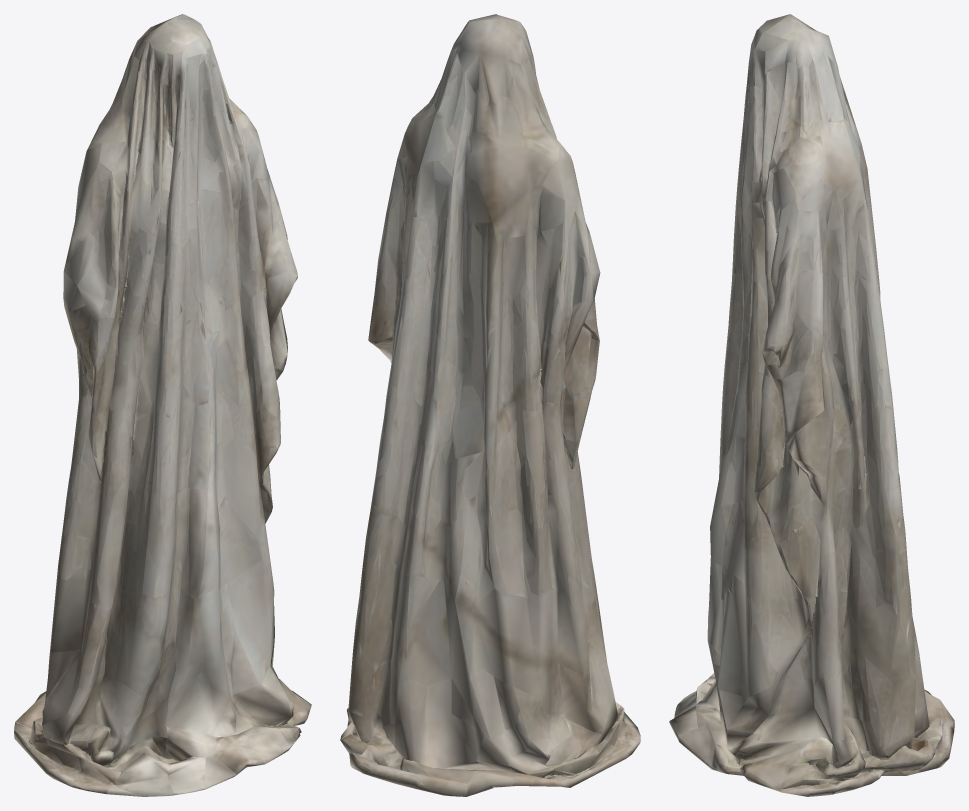
File: covered-statue.glb
3 views of the same model, side by side, from view 1: azimuth 30°, elevation 25°; view 2: azimuth 150°, elevation 25°; view 3: azimuth 270°, elevation 25° (orthographic).
Bounding box in the file's own units: 0.7261 × 1.9 × 0.6853.
Materials: 1 (1 with a texture image).
